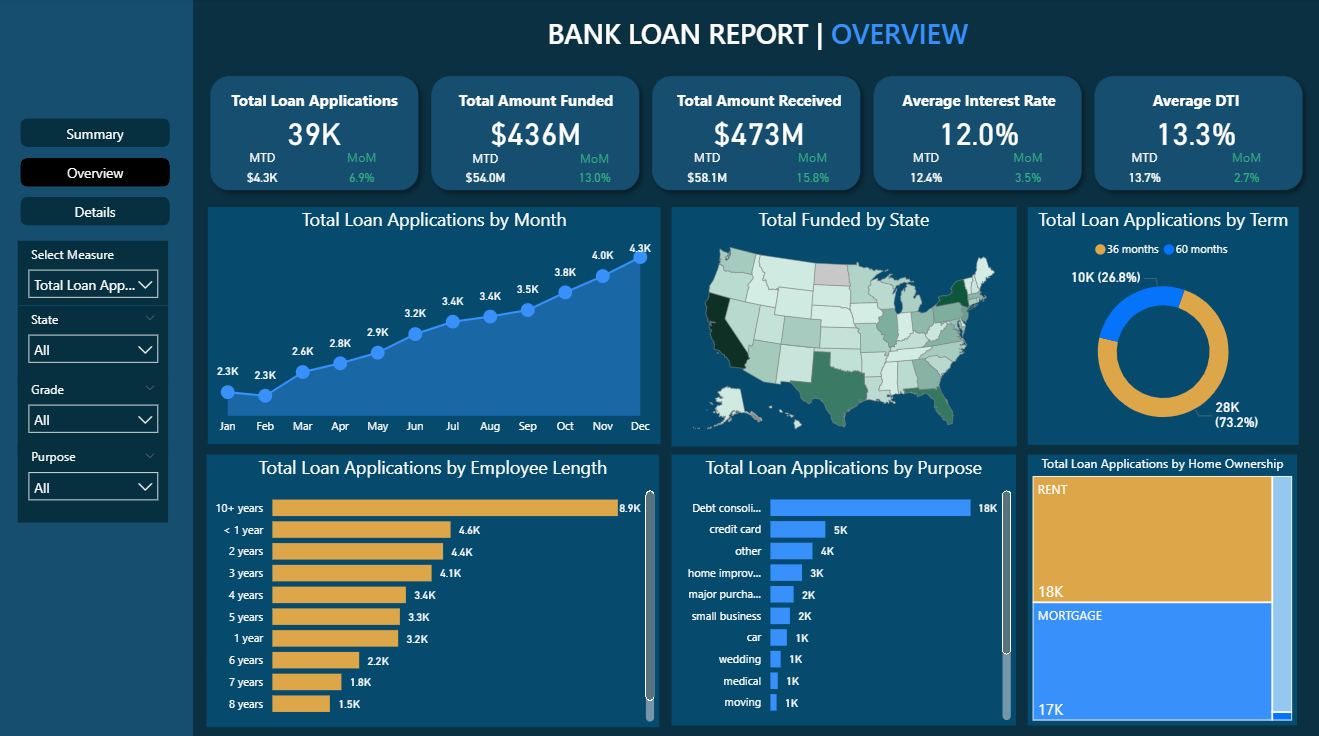

The page's visual inventory and layout, read from the dashboard file:
{"tool":"powerbi","page":{"name":"Overview","canvas":[1280,720],"ordinal":1},"visuals":[{"type":"textbox","box":[190.4,11.5,1089.3,50.5],"z":0},{"type":"card","title":"Total Loan Applications","fields":{"Values":["bankloan data.Total Loan Applications"]},"box":[200.5,89.5,209.2,62],"z":1000},{"type":"card","title":"MTD","fields":{"Values":["bankloan data.MTD Total Loan Applications"]},"box":[200.5,142.8,108.2,51.9],"z":2000},{"type":"card","title":"MoM","fields":{"Values":["bankloan data.MoM Total Loan Applications"]},"box":[292.9,142.8,116.9,51.9],"z":3000},{"type":"card","title":"Total Amount Funded","fields":{"Values":["bankloan data.Total Funded Amount"]},"box":[421.3,89.5,197.7,62],"z":4000},{"type":"card","title":"MTD","fields":{"Values":["bankloan data.MTD Total Funded Amount"]},"box":[421.3,144.3,99.6,50.5],"z":5000},{"type":"card","title":"MoM","fields":{"Values":["bankloan data.MoM Total Funded Amount"]},"box":[535.3,144.3,83.7,50.5],"z":6000},{"type":"card","title":"Total Amount Received","fields":{"Values":["bankloan data.Total Amount Received"]},"box":[640.6,89.5,191.9,62],"z":7000},{"type":"card","title":"MTD","fields":{"Values":["bankloan data.MTD Total Amount Received"]},"box":[640.6,142.8,90.9,51.9],"z":8000},{"type":"card","title":"MoM","fields":{"Values":["bankloan data.MoM Total Received"]},"box":[743,142.8,89.5,51.9],"z":9000},{"type":"card","title":"Average Interest Rate","fields":{"Values":["bankloan data.AVG Int Rate"]},"box":[851.2,89.5,196.2,62],"z":10000},{"type":"card","title":"MTD","fields":{"Values":["bankloan data.MTD avg int rate"]},"box":[851.2,142.8,93.8,51.9],"z":11000},{"type":"card","title":"MoM","fields":{"Values":["bankloan data.MoM avg int rate"]},"box":[945,142.8,102.4,51.9],"z":12000},{"type":"card","title":"Average DTI","fields":{"Values":["bankloan data.avg dti"]},"box":[1060.4,89.5,197.7,62],"z":13000},{"type":"card","title":"MTD","fields":{"Values":["bankloan data.MTD avg dti"]},"box":[1060.4,142.8,98.1,51.9],"z":14000},{"type":"card","title":"MoM","fields":{"Values":["bankloan data.MoM avg dti"]},"box":[1158.5,142.8,99.6,51.9],"z":15000},{"type":"slicer","fields":{"Values":["bankloan data.address_state"]},"box":[18.8,298.7,145.7,76.5],"z":16000},{"type":"slicer","fields":{"Values":["bankloan data.grade"]},"box":[18.8,366.5,145.7,76.5],"z":17000},{"type":"slicer","fields":{"Values":["bankloan data.purpose"]},"box":[18.8,432.5,145.7,76.5],"z":18000},{"type":"areaChart","fields":{"Y":["bankloan data.Total Loan Applications"],"Category":["Date Table.Month"]},"box":[202,203.4,438.6,229.4],"z":19000},{"type":"slicer","fields":{"Values":["Select Measure.Select Measure"]},"box":[18.8,236.3,145.7,62],"z":20000},{"type":"shapeMap","title":"Total Funded by State","fields":{"Category":["bankloan data.address_state"],"Value":["bankloan data.Total Loan Applications"]},"box":[650.8,202.8,334.2,232],"z":21000},{"type":"donutChart","fields":{"Y":["bankloan data.Total Loan Applications"],"Category":["bankloan data.term"]},"box":[996.6,202.8,262.7,230.6],"z":22000},{"type":"barChart","fields":{"Y":["bankloan data.Total Loan Applications"],"Category":["bankloan data.emp_length"]},"box":[201.1,443.1,438.7,263.8],"z":23000},{"type":"barChart","fields":{"Y":["bankloan data.Total Loan Applications"],"Category":["bankloan data.purpose"]},"box":[651.5,443.1,333.8,262.4],"z":24000},{"type":"treemap","fields":{"Values":["bankloan data.Total Loan Applications"],"Group":["bankloan data.home_ownership"]},"box":[996.6,443.6,261.2,262.7],"z":25000},{"type":"pageNavigator","box":[20.2,116.9,145.7,105.3],"z":26000}]}

Visuals, with their boxes on the page's 1280x720 design canvas (x1, y1, x2, y2). These are canvas units, not pixel positions in the 1319x736 screenshot, which may show the page scaled, cropped or inside an application window:
textbox: detection(190, 12, 1280, 62)
"Total Loan Applications" card: detection(200, 90, 410, 152)
"MTD" card: detection(200, 143, 309, 195)
"MoM" card: detection(293, 143, 410, 195)
"Total Amount Funded" card: detection(421, 90, 619, 152)
"MTD" card: detection(421, 144, 521, 195)
"MoM" card: detection(535, 144, 619, 195)
"Total Amount Received" card: detection(641, 90, 832, 152)
"MTD" card: detection(641, 143, 732, 195)
"MoM" card: detection(743, 143, 832, 195)
"Average Interest Rate" card: detection(851, 90, 1047, 152)
"MTD" card: detection(851, 143, 945, 195)
"MoM" card: detection(945, 143, 1047, 195)
"Average DTI" card: detection(1060, 90, 1258, 152)
"MTD" card: detection(1060, 143, 1158, 195)
"MoM" card: detection(1158, 143, 1258, 195)
slicer - bankloan data.address_state: detection(19, 299, 164, 375)
slicer - bankloan data.grade: detection(19, 366, 164, 443)
slicer - bankloan data.purpose: detection(19, 432, 164, 509)
areaChart - bankloan data.Total Loan Applications x Date Table.Month: detection(202, 203, 641, 433)
slicer - Select Measure.Select Measure: detection(19, 236, 164, 298)
"Total Funded by State" shapeMap: detection(651, 203, 985, 435)
donutChart - bankloan data.Total Loan Applications x bankloan data.term: detection(997, 203, 1259, 433)
barChart - bankloan data.Total Loan Applications x bankloan data.emp_length: detection(201, 443, 640, 707)
barChart - bankloan data.Total Loan Applications x bankloan data.purpose: detection(652, 443, 985, 706)
treemap - bankloan data.Total Loan Applications x bankloan data.home_ownership: detection(997, 444, 1258, 706)
pageNavigator: detection(20, 117, 166, 222)
